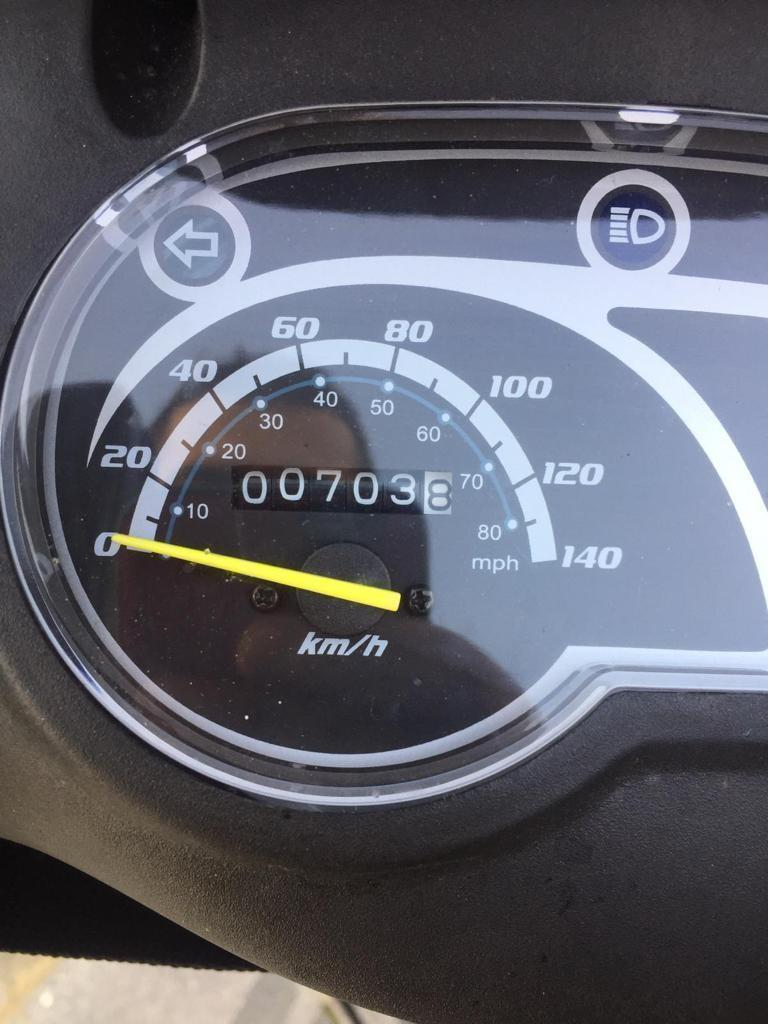0: (351, 469, 380, 508), (238, 468, 268, 505), (277, 464, 306, 502)
3: (388, 471, 418, 506)
7: (314, 466, 343, 504)
8: (424, 476, 454, 513)
odometer: (226, 462, 455, 519)
